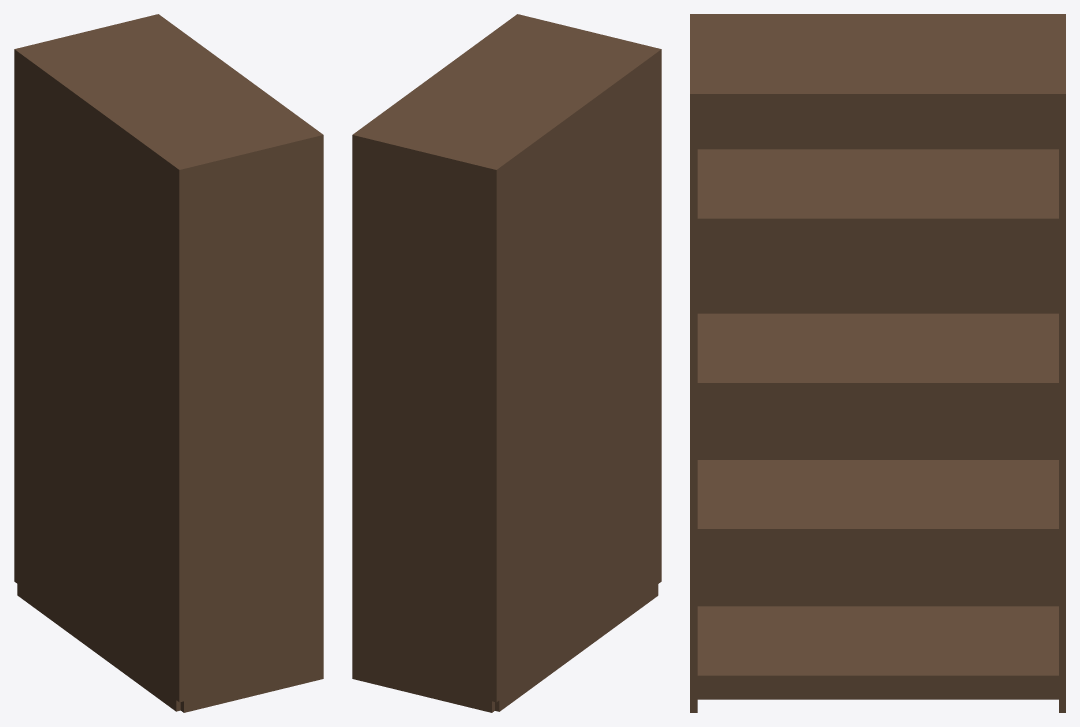
The model's file is Cupboard.fbx.
3 renders of one model, left to right at view 1: azimuth 30°, elevation 25°; view 2: azimuth 150°, elevation 25°; view 3: azimuth 270°, elevation 25°, orthographic. The views are drawn at different scales.
Parts seen in each view (by area): view 1: Cupboard; view 2: Cupboard; view 3: Cupboard.
Boxes of the visible parts, <box> form: Cupboard: <box>14,14,323,712</box>; Cupboard: <box>352,14,661,712</box>; Cupboard: <box>690,14,1065,712</box>.
Bounding box in the file's own units: 1.01 × 3.64 × 2.
1 material, 1 textured.
